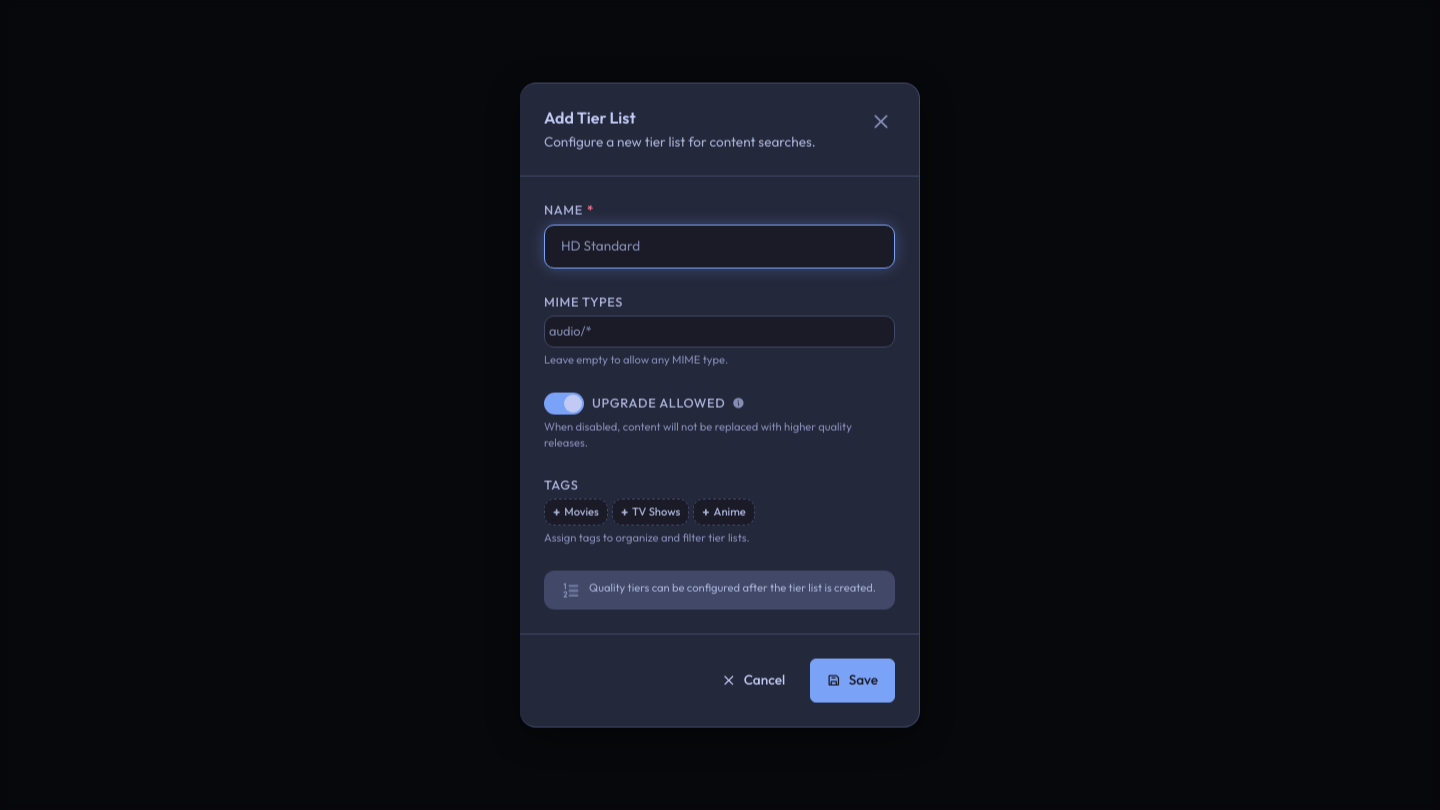
Test: TierListForm › rejects invalid MIME types with a field-level error
This screenshot has width=1440, height=810.
Type "Invalid" into the field labelled "Name *" at (720, 246), box [545,228,894,264]
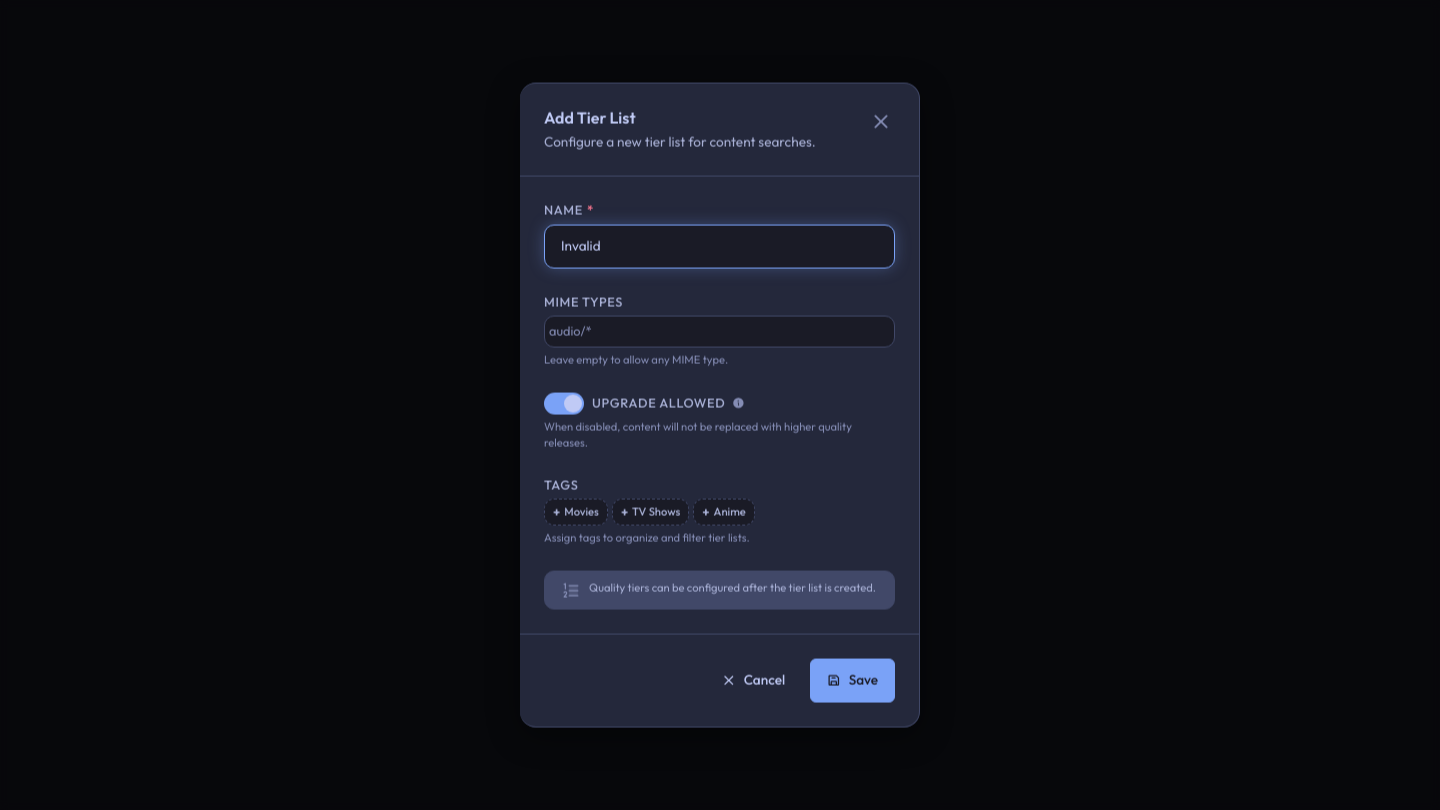
Type "audio" into the dropdown labelled "MIME Types" at (720, 331), box [549,320,890,343]
Then press Enter
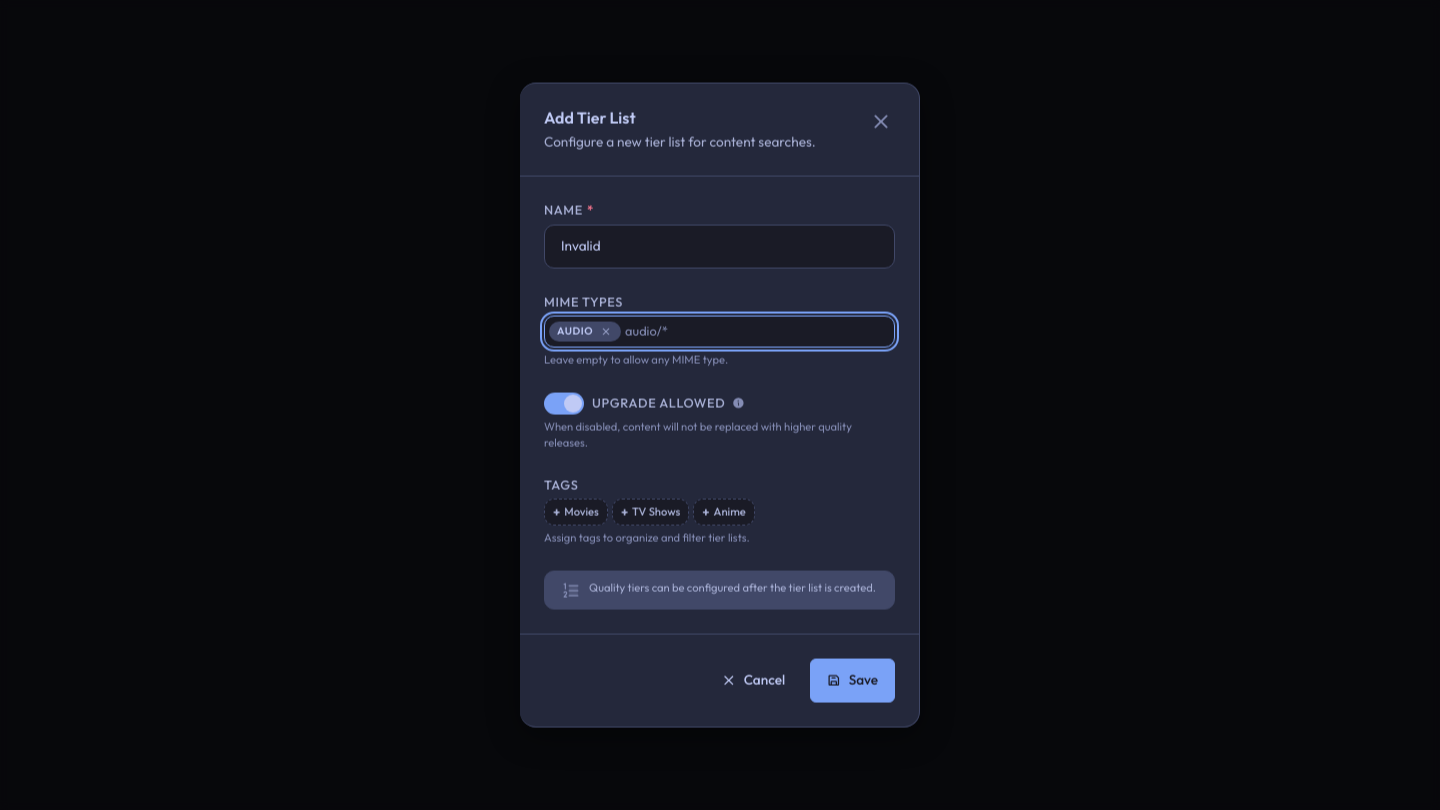
Click the button "Save" at (853, 680), box [810,658,895,702]
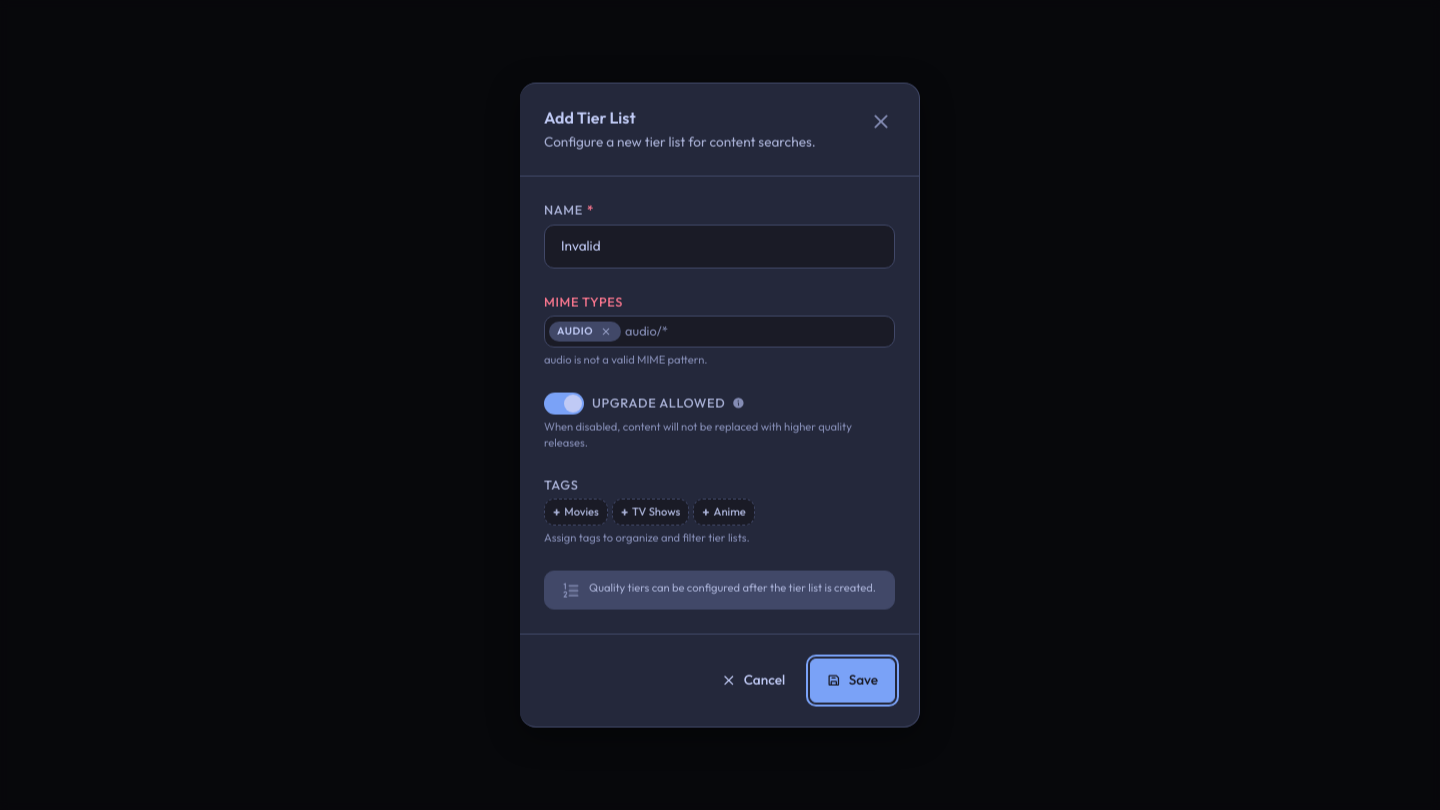
Check: the message reads "audio is not a valid MIME pattern.", box [544,352,708,366]
